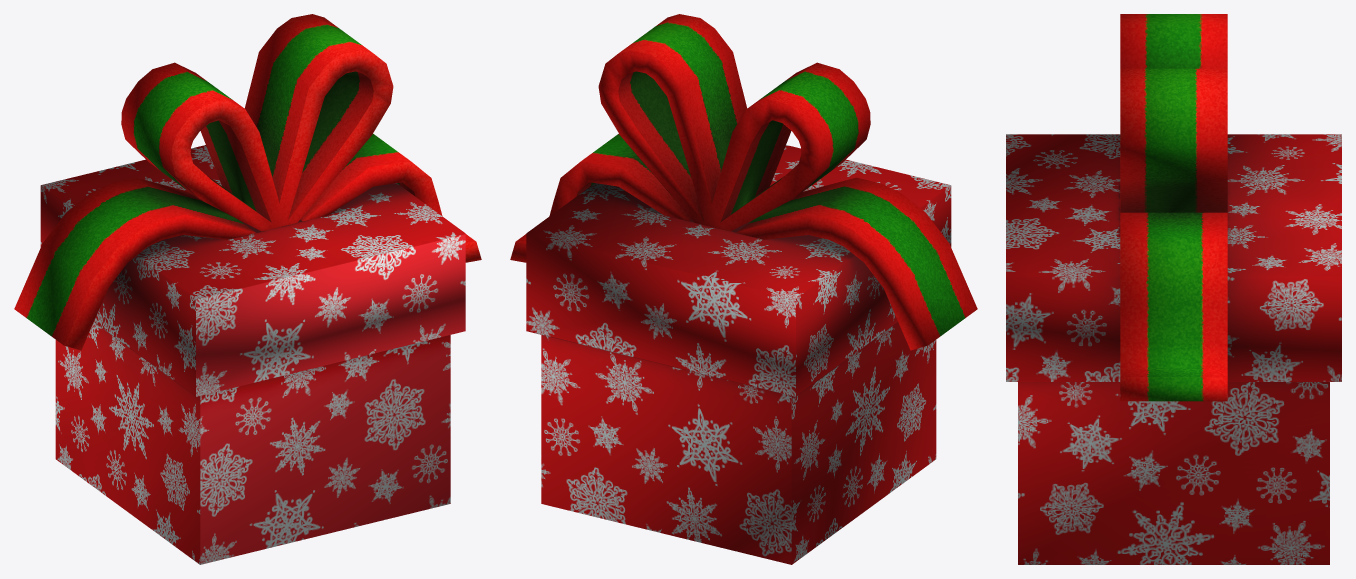
File: Present-01.fbx
3 views of the same model, side by side, from view 1: azimuth 30°, elevation 25°; view 2: azimuth 150°, elevation 25°; view 3: azimuth 270°, elevation 25° (orthographic). The views are drawn at different scales.
Parts seen in each view (by area): view 1: Present-Box-01, Present-Ribbon-01; view 2: Present-Box-01, Present-Ribbon-01; view 3: Present-Box-01, Present-Ribbon-01.
Part boxes in pixels (x1,y1,x2,y2): Present-Box-01: (40, 145, 465, 564); Present-Ribbon-01: (14, 14, 481, 350); Present-Box-01: (526, 145, 951, 564); Present-Ribbon-01: (510, 14, 977, 350); Present-Box-01: (1006, 134, 1341, 564); Present-Ribbon-01: (1120, 14, 1227, 401).
Bounding box in the file's own units: 6.43 × 6.33 × 4.15.
